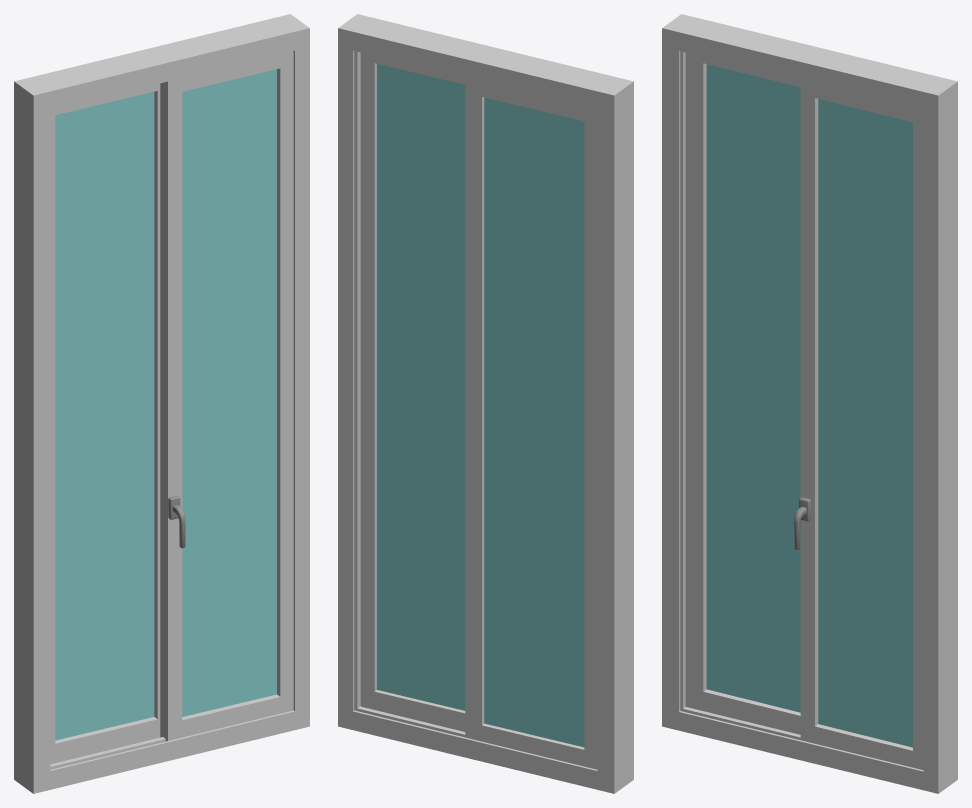
File: WindowKichen2.fbx
3 renders of one model, left to right at view 1: azimuth 30°, elevation 25°; view 2: azimuth 150°, elevation 25°; view 3: azimuth 330°, elevation 25°, orthographic.
Parts seen in each view (by area): view 1: Box335, Box336, WindowRight_009, InLeft022, InLeft021, Handle042; view 2: Box335, WindowRight_009, Box336, InLeft021, InLeft022; view 3: Box336, Box335, WindowRight_009, InLeft022, InLeft021.
Part boxes in pixels (box(x1,y1,x2,y2)): Box335: box(55, 91, 154, 740); Box336: box(182, 69, 276, 716); WindowRight_009: box(14, 14, 309, 793); InLeft022: box(160, 51, 293, 741); InLeft021: box(50, 83, 160, 764); Handle042: box(168, 495, 185, 548); Box335: box(484, 97, 584, 747); WindowRight_009: box(338, 14, 633, 793); Box336: box(377, 64, 465, 710); InLeft021: box(465, 78, 597, 769); InLeft022: box(361, 52, 465, 731); Box336: box(818, 99, 912, 747); Box335: box(706, 64, 800, 712); WindowRight_009: box(662, 14, 957, 793); InLeft022: box(800, 81, 923, 769); InLeft021: box(685, 53, 800, 734).
Bounding box in the file's own units: 45.49 × 110 × 7.89.
